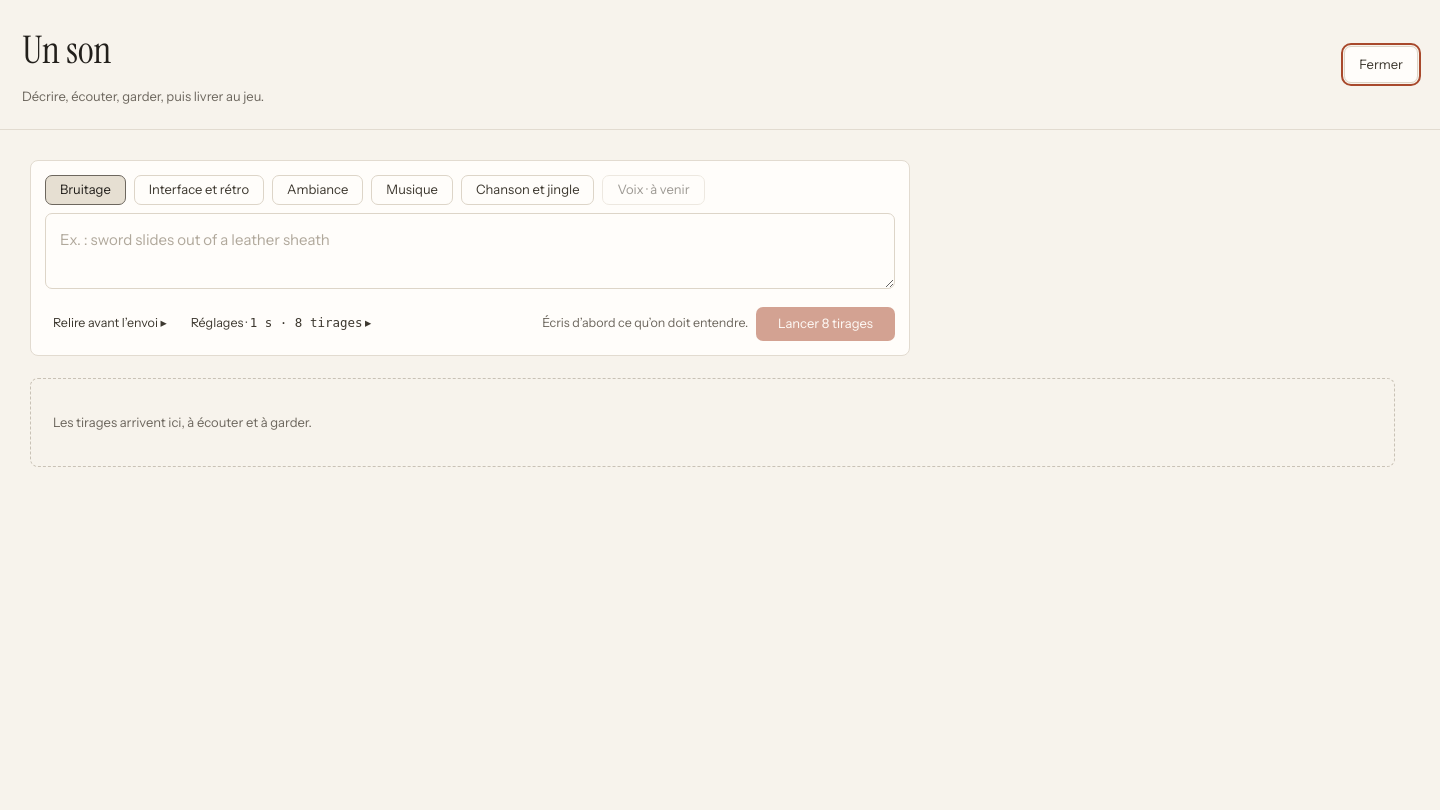
Scenario: sans mesure, un temps de repli se dit estimé, sur le bouton et à côté
Type "Fanfare" into the text box named "Ce qu’on doit entendre" at (470, 251), box x1=45 y1=212 x2=895 y2=289
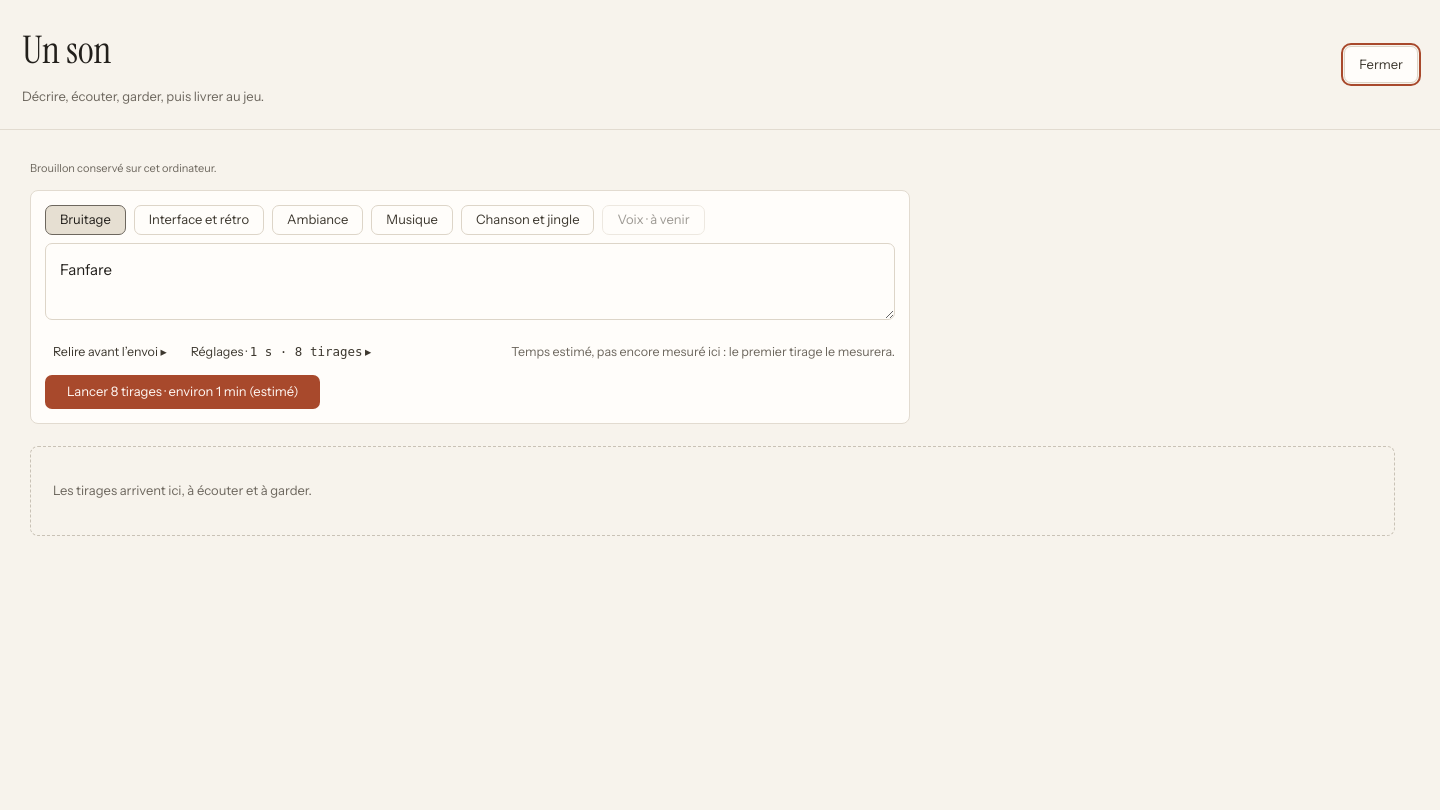
expect the button "Lancer 8 tirages · environ 1 min (estimé)" is enabled: met, box x1=45 y1=375 x2=320 y2=409
expect the text "Temps estimé, pas encore mesuré ici : le premier tirage le mesurera." is shown: met, box x1=511 y1=343 x2=895 y2=361
